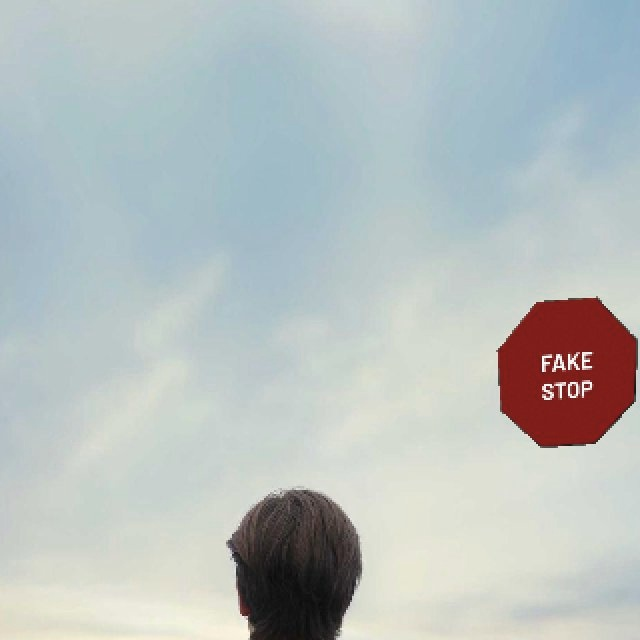FAKE_STOP: (496, 296, 637, 447)
